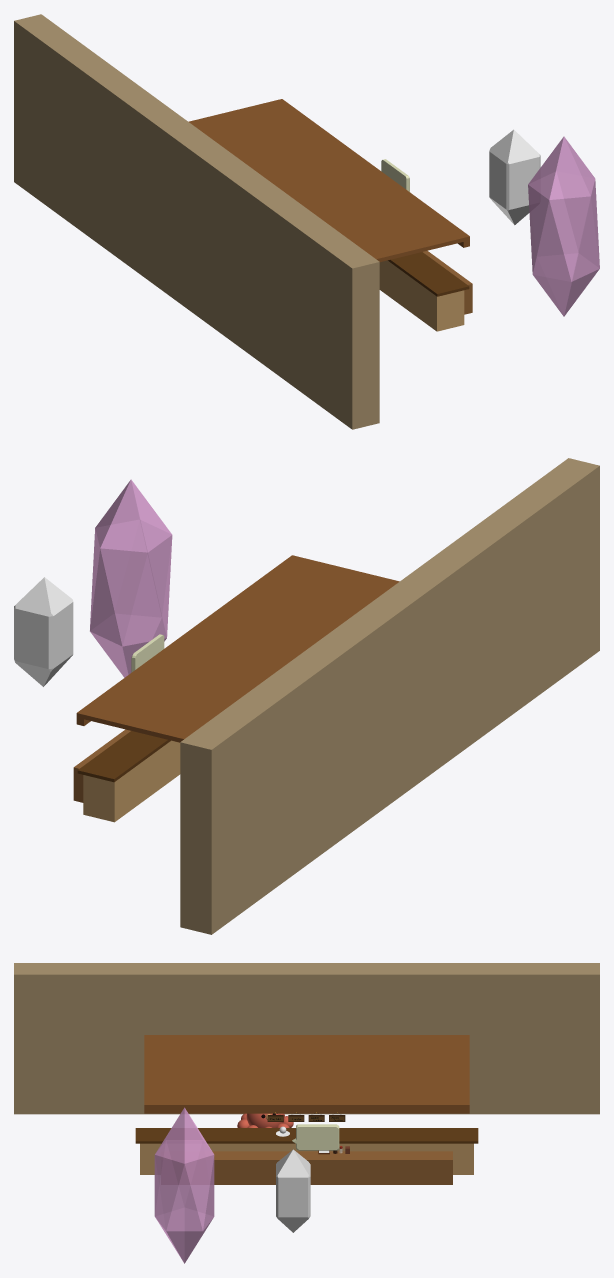
File: crystal.fbx
The picture shows the model from 3 angles, top to bottom: view 1: azimuth 30°, elevation 25°; view 2: azimuth 150°, elevation 25°; view 3: azimuth 270°, elevation 25°; orthographic projection. The views are drawn at different scales.
Parts seen in each view (by area): view 1: Cube.003, 上方木板, Icosphere, Cube.005, Cube, Cube.002; view 2: Cube.003, 上方木板, Icosphere, Cube.005, Cube, Cube.002, Cube.001; view 3: Cube.003, 上方木板, Cube.001, Icosphere, Cube.002, Cube, Cube.005, Cube.004.
Boxes of the visible parts, bbox=[...] form: Cube.003: bbox=[14, 14, 379, 429]; 上方木板: bbox=[188, 99, 469, 262]; Icosphere: bbox=[528, 136, 599, 316]; Cube.005: bbox=[489, 129, 540, 225]; Cube: bbox=[379, 260, 464, 331]; Cube.002: bbox=[388, 252, 469, 296]; Cube.003: bbox=[180, 458, 599, 934]; 上方木板: bbox=[76, 555, 399, 742]; Icosphere: bbox=[90, 479, 172, 677]; Cube.005: bbox=[14, 577, 73, 686]; Cube: bbox=[83, 740, 180, 822]; Cube.002: bbox=[77, 731, 170, 782]; Cube.001: bbox=[73, 729, 130, 802]; Cube.003: bbox=[14, 963, 599, 1114]; 上方木板: bbox=[144, 1035, 469, 1113]; Cube.001: bbox=[212, 1151, 452, 1184]; Icosphere: bbox=[154, 1107, 214, 1263]; Cube.002: bbox=[135, 1128, 478, 1143]; Cube: bbox=[140, 1143, 473, 1174]; Cube.005: bbox=[276, 1149, 310, 1232]; Cube.004: bbox=[292, 1124, 339, 1150].
Bounding box in the file's own units: 2494 × 1370 × 4282.
